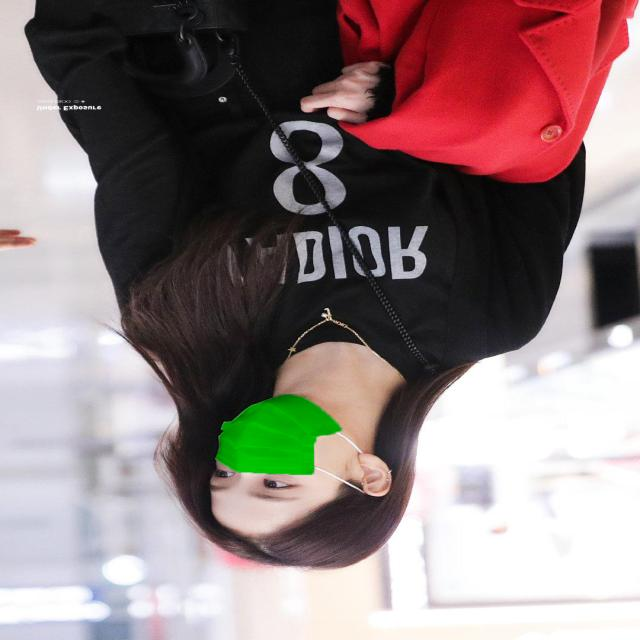Mask: (212, 392, 367, 478)
